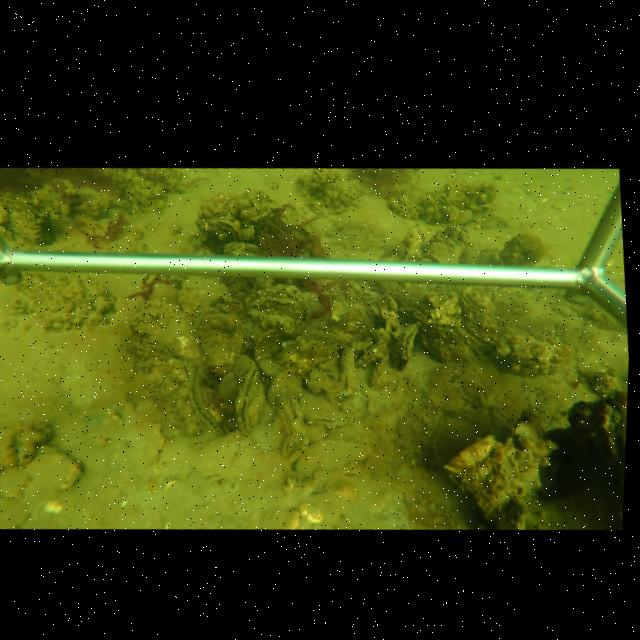Oyster-Closed: (242, 284, 311, 339), (276, 327, 354, 370), (186, 369, 228, 440), (457, 292, 500, 345), (233, 368, 265, 439), (298, 397, 351, 429), (393, 321, 418, 372), (240, 203, 286, 229), (354, 339, 389, 367), (200, 218, 243, 240), (265, 372, 286, 404), (280, 433, 295, 457)
Oyster-Indeterminate: (177, 275, 246, 376), (126, 298, 205, 366), (420, 322, 478, 364)
Oyster-Open: (413, 250, 442, 261), (332, 388, 353, 403)
